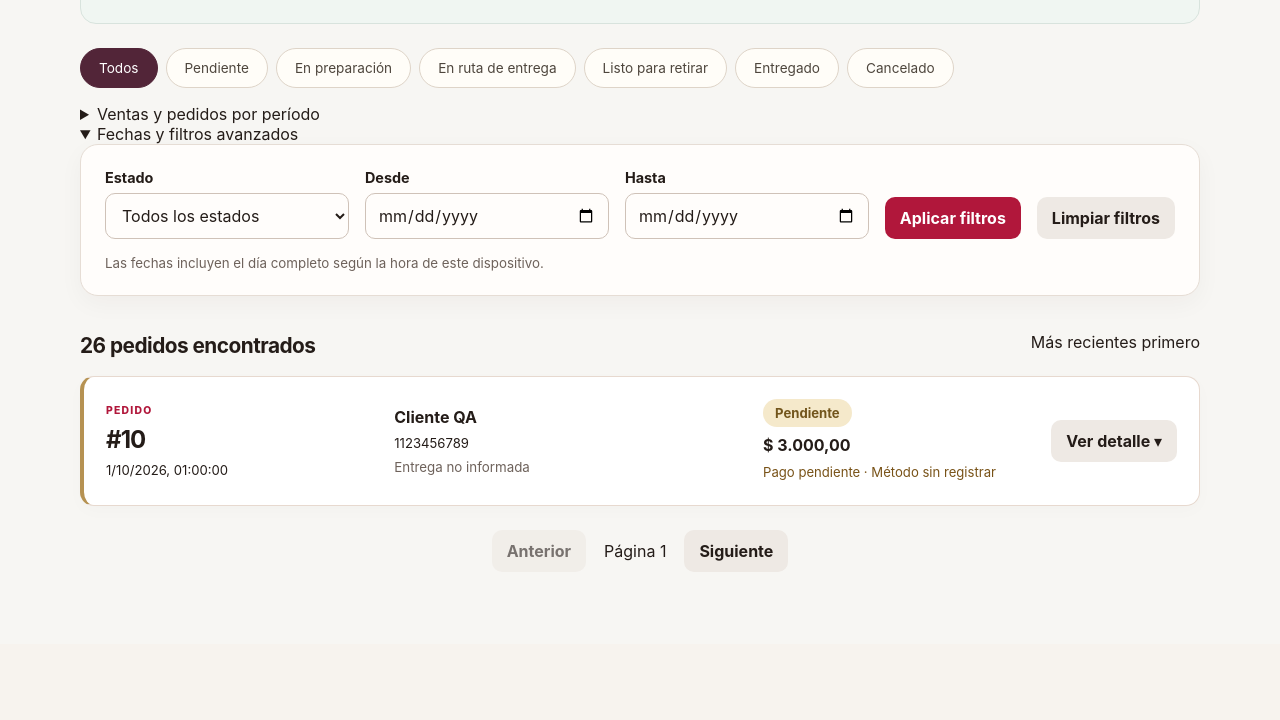
Test: pagina sin mezclar resultados y consulta el detalle seleccionado
(page scrolled)
Expected: the button with aria-label "Ver pedido #10" is shown, top-left (1051, 420), bottom-right (1177, 462)
Click the button "Siguiente".
click(736, 550)  # box top-left (684, 530), bottom-right (788, 572)
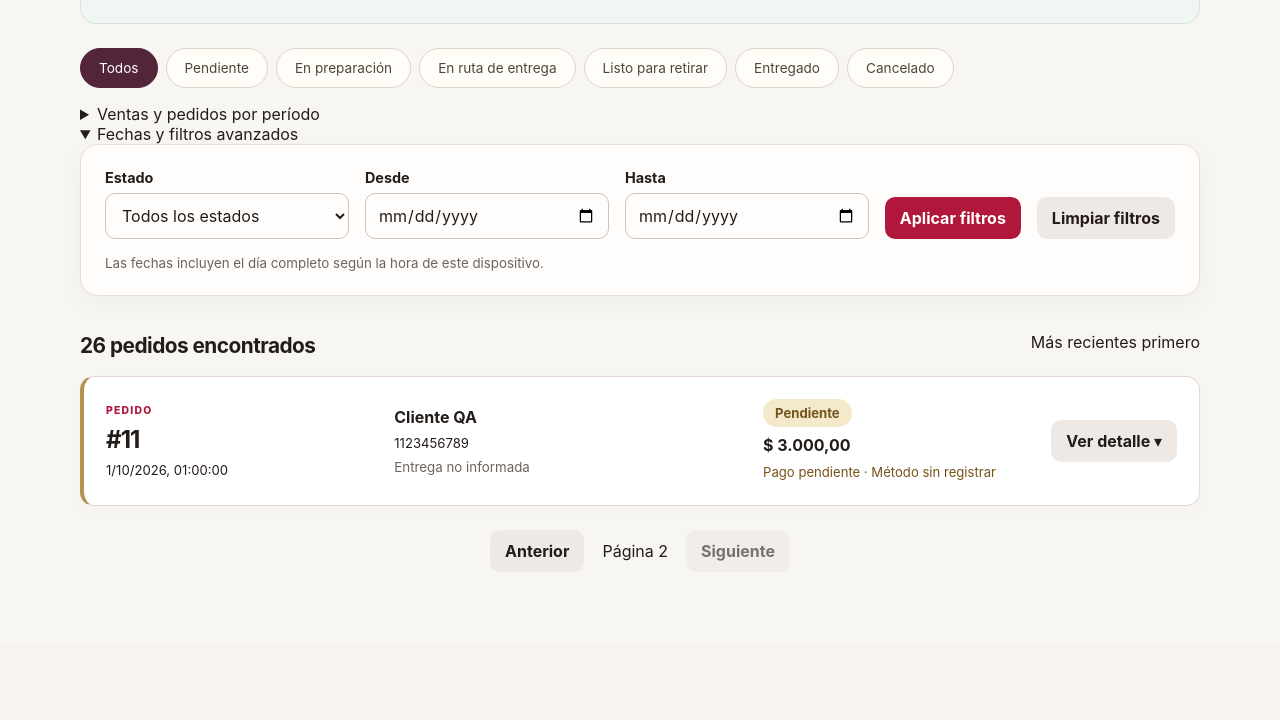
Click the button with aria-label "Ver pedido #11".
click(1114, 441)  # box top-left (1051, 420), bottom-right (1177, 462)
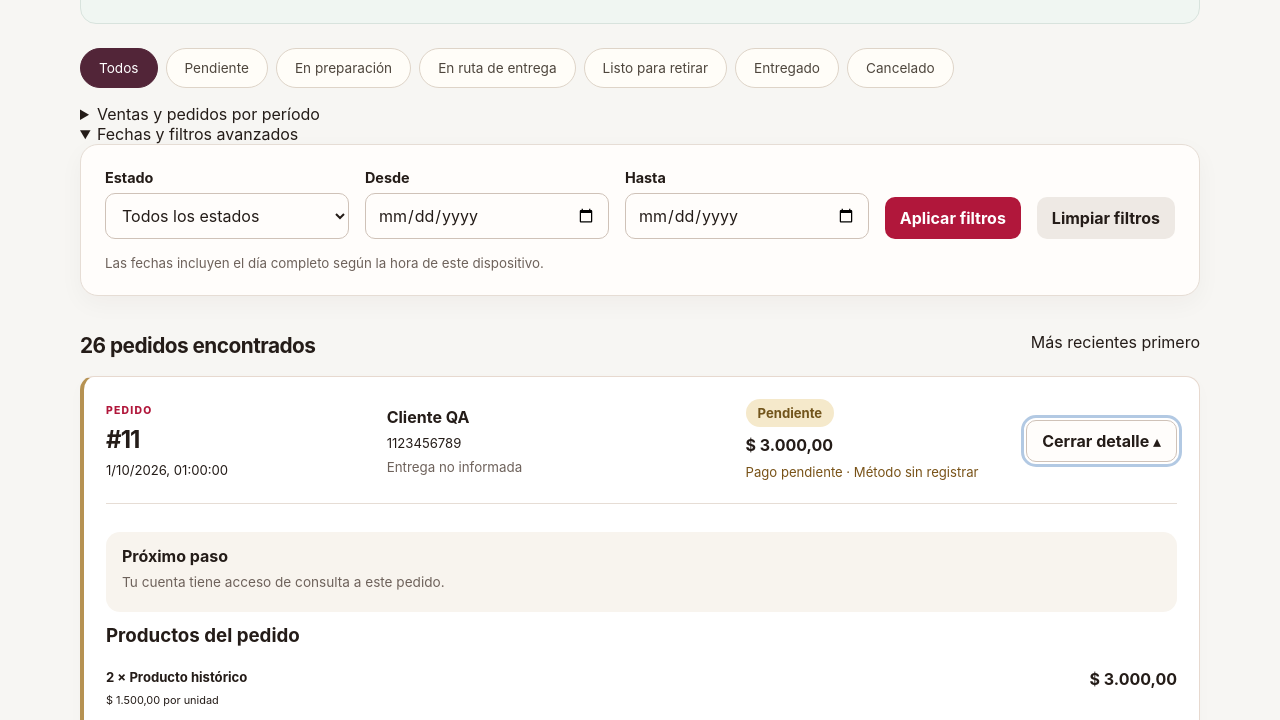
Now the text "2 × Producto histórico" is shown, box top-left (106, 668), bottom-right (247, 684)
